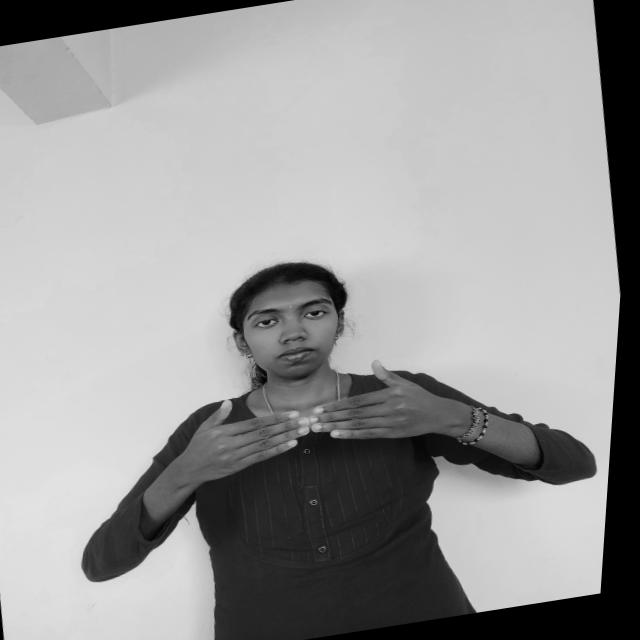Night: (171, 345, 472, 488)
